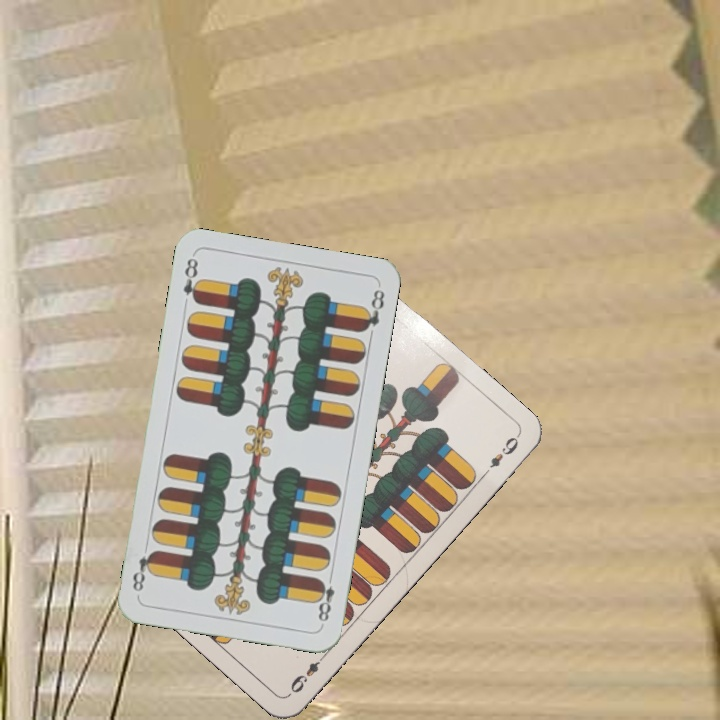E8: (312, 569, 337, 625), (179, 254, 204, 307)
E9: (285, 649, 329, 698)
